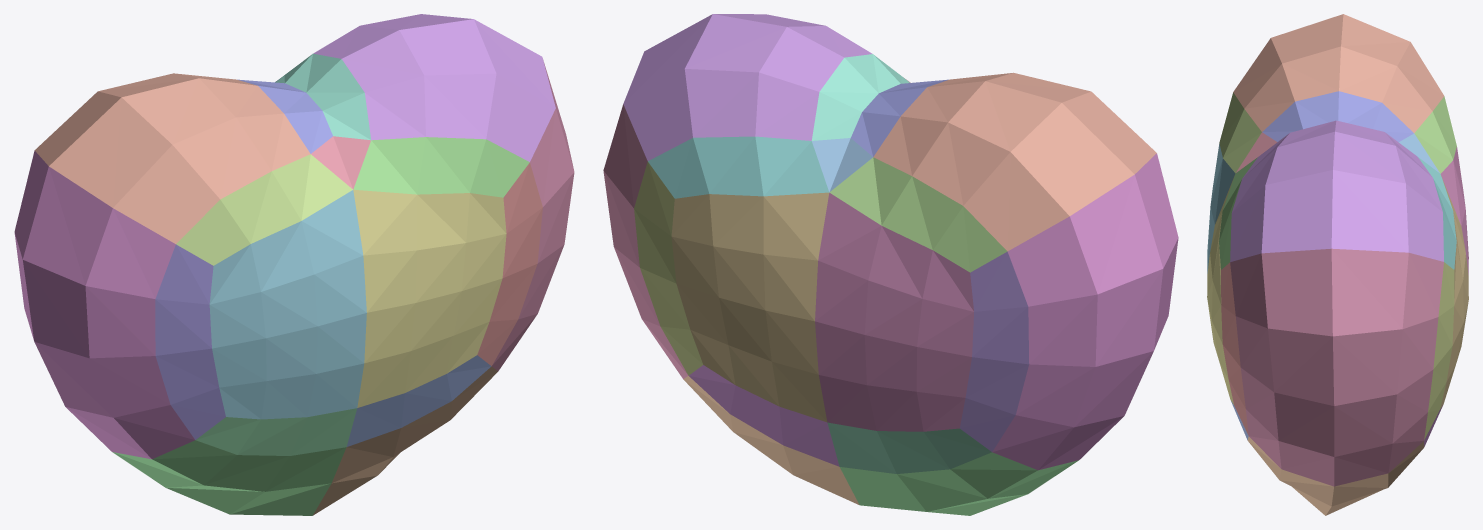
The model's file is heart_patch_color.obj.
3 renders of one model, left to right at view 1: azimuth 30°, elevation 25°; view 2: azimuth 150°, elevation 25°; view 3: azimuth 270°, elevation 25°, orthographic. The views are drawn at different scales.
Size of the model in its own units: 2.79 by 2.24 by 1.29.
